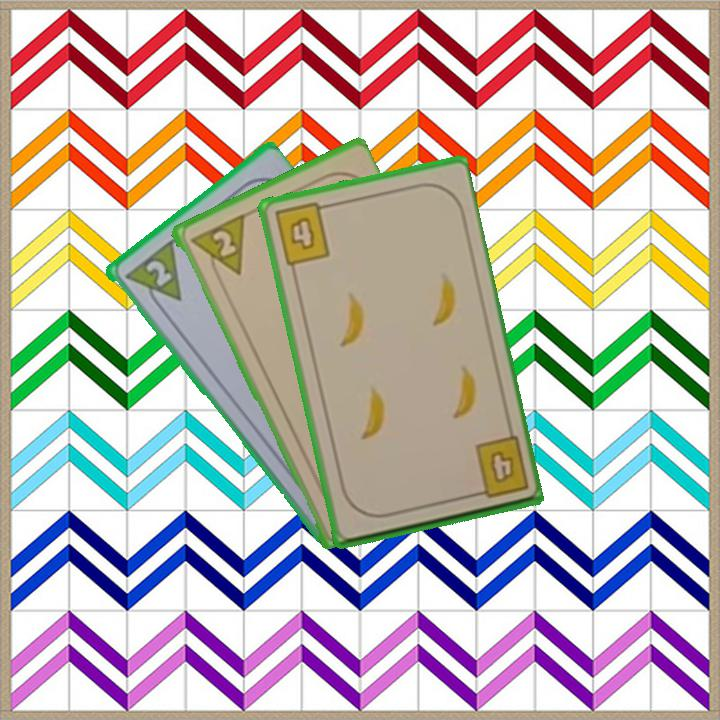2p: (186, 211, 247, 285), (141, 256, 175, 290)
4b: (466, 433, 531, 502), (270, 199, 333, 268)
